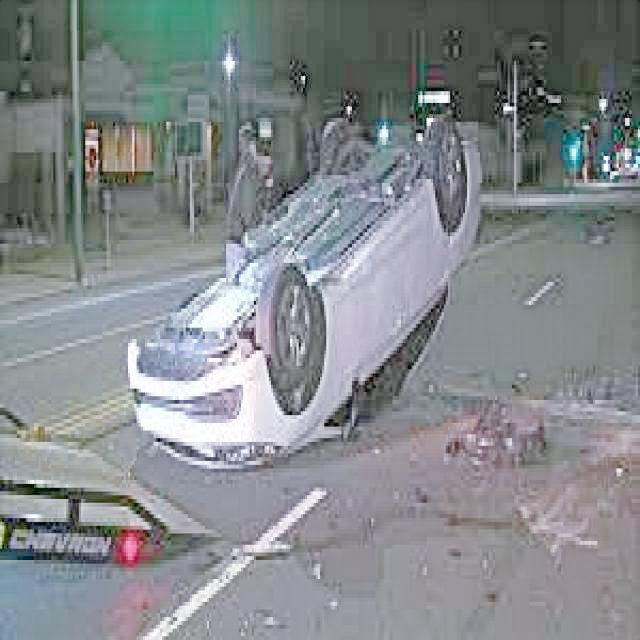Car: (130, 101, 488, 456)
Major Accident: (121, 92, 501, 463)
